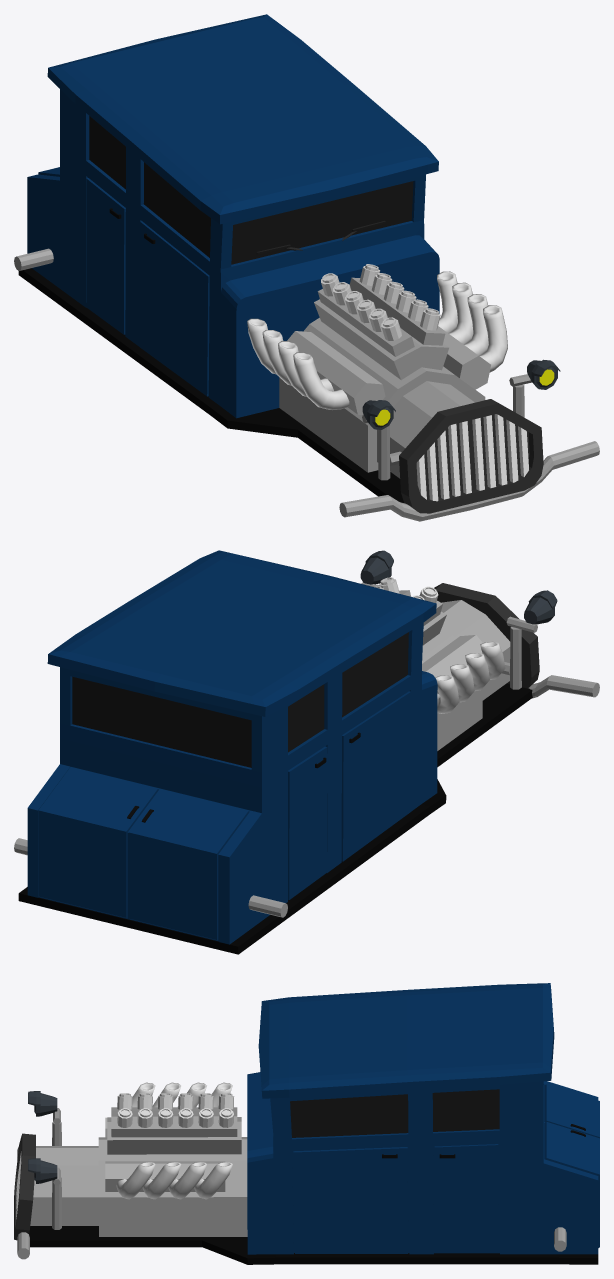
Rendered from hot_rod_body.glb.
3 views of the same model, one above another, from view 1: azimuth 30°, elevation 25°; view 2: azimuth 150°, elevation 25°; view 3: azimuth 270°, elevation 25° (orthographic). The views are drawn at different scales.
Parts seen in each view (by area): view 1: button; view 2: button; view 3: button.
Boxes of the visible parts, x1=… form: button: x1=14, y1=14, x2=599, y2=521; button: x1=14, y1=550, x2=599, y2=954; button: x1=14, y1=983, x2=599, y2=1264.
Size of the model in its own units: 2.48 by 2.13 by 5.58.
1 material, 1 textured.
